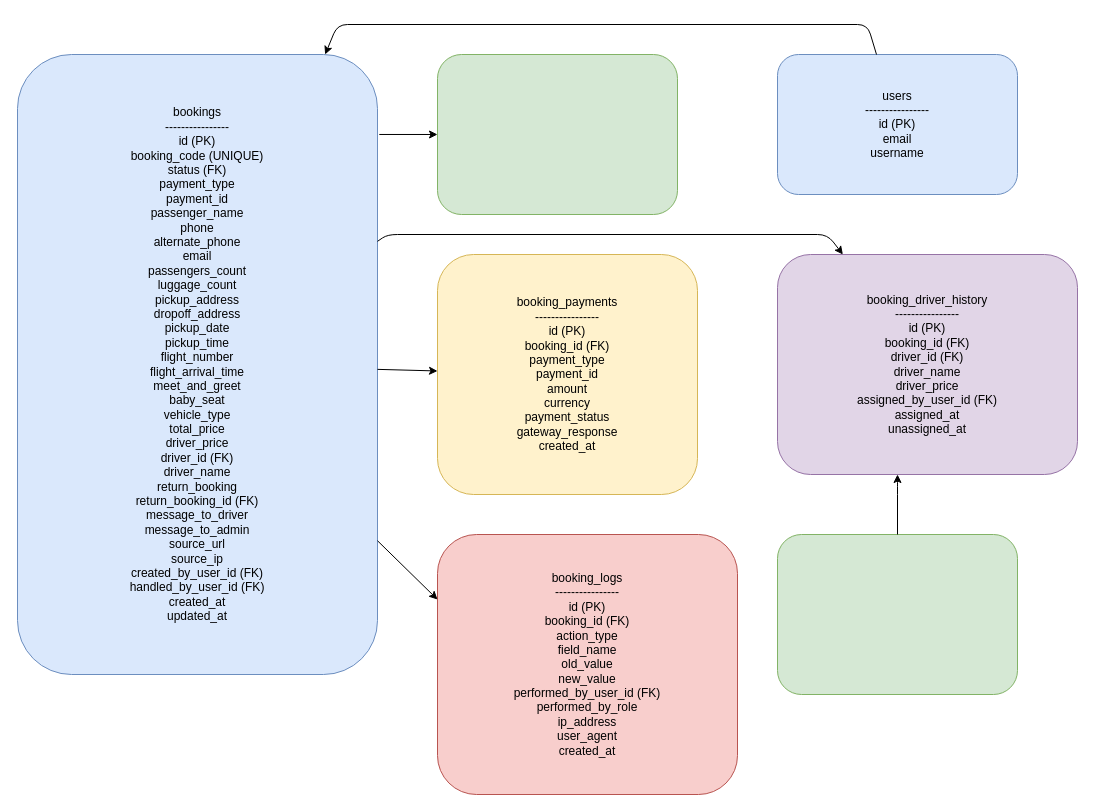
The diagram is 1095 pixels wide and 812 high, and some of its shapes have lost their labels. Here are the shapes that lost their labels. From the top down, the centre of each, then its label:
the point at 557,134: booking_statuses ---------------- id (PK) name description
the point at 897,614: drivers ---------------- id (PK) name phone vehicle_type
